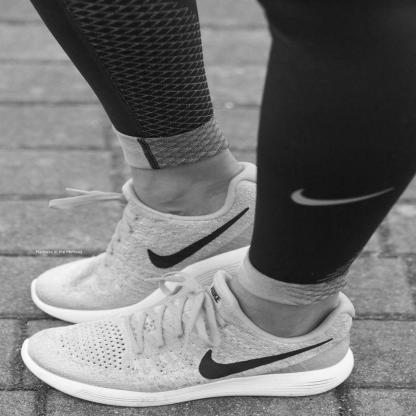ankle: (210, 217, 216, 222), (285, 341, 292, 345)
heel: (342, 349, 349, 355), (247, 244, 251, 247)
left_foot: (21, 299, 356, 409)
pinky: (84, 375, 89, 379), (74, 263, 78, 266)
right_foot: (16, 176, 259, 325)
toe: (50, 331, 55, 335), (55, 297, 59, 298)
